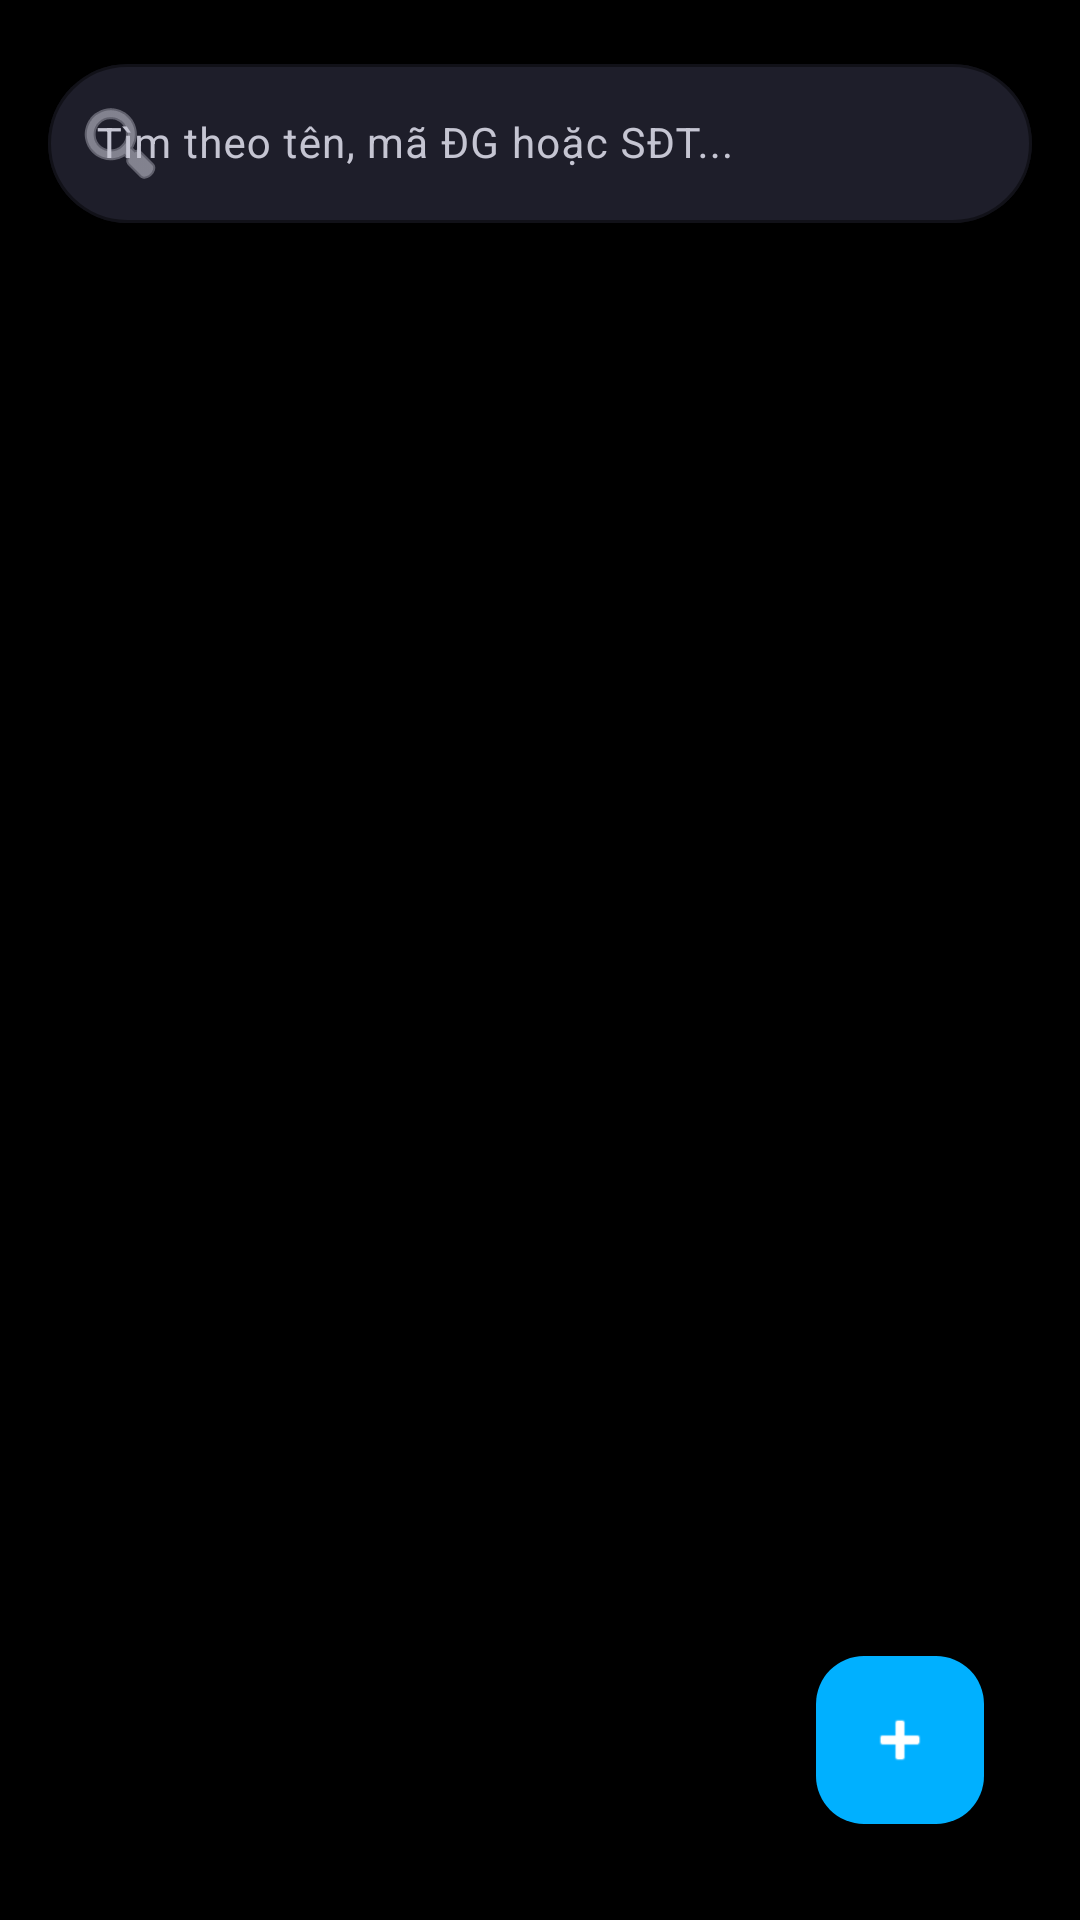

Screen size 1080w x 1920h. Icon name, then its box in pixels as (x1, y1, x2, y2):
Add Reader: (816, 1656, 984, 1824)
